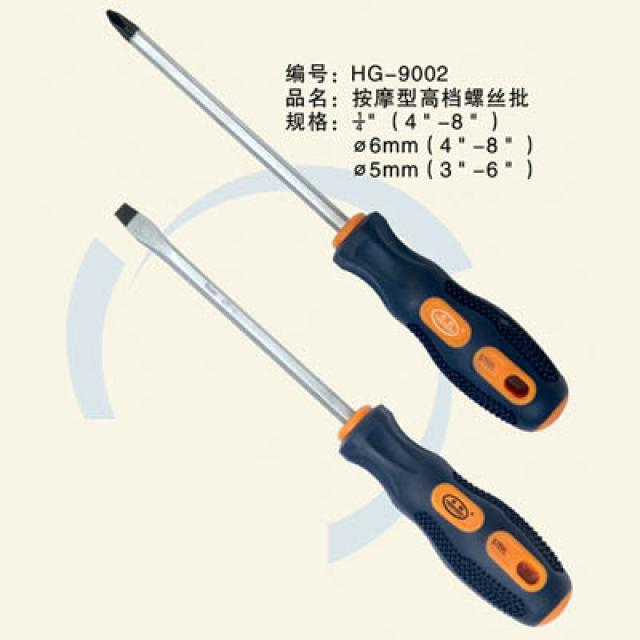screw driver: (73, 161, 612, 640), (98, 0, 610, 303)
